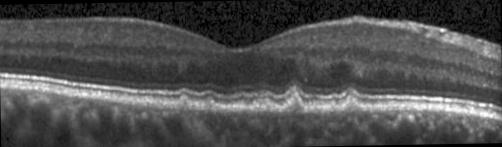retinal_drusen: (253, 97, 280, 111), (283, 97, 303, 113), (177, 94, 190, 110), (344, 101, 361, 112), (204, 96, 215, 110)
